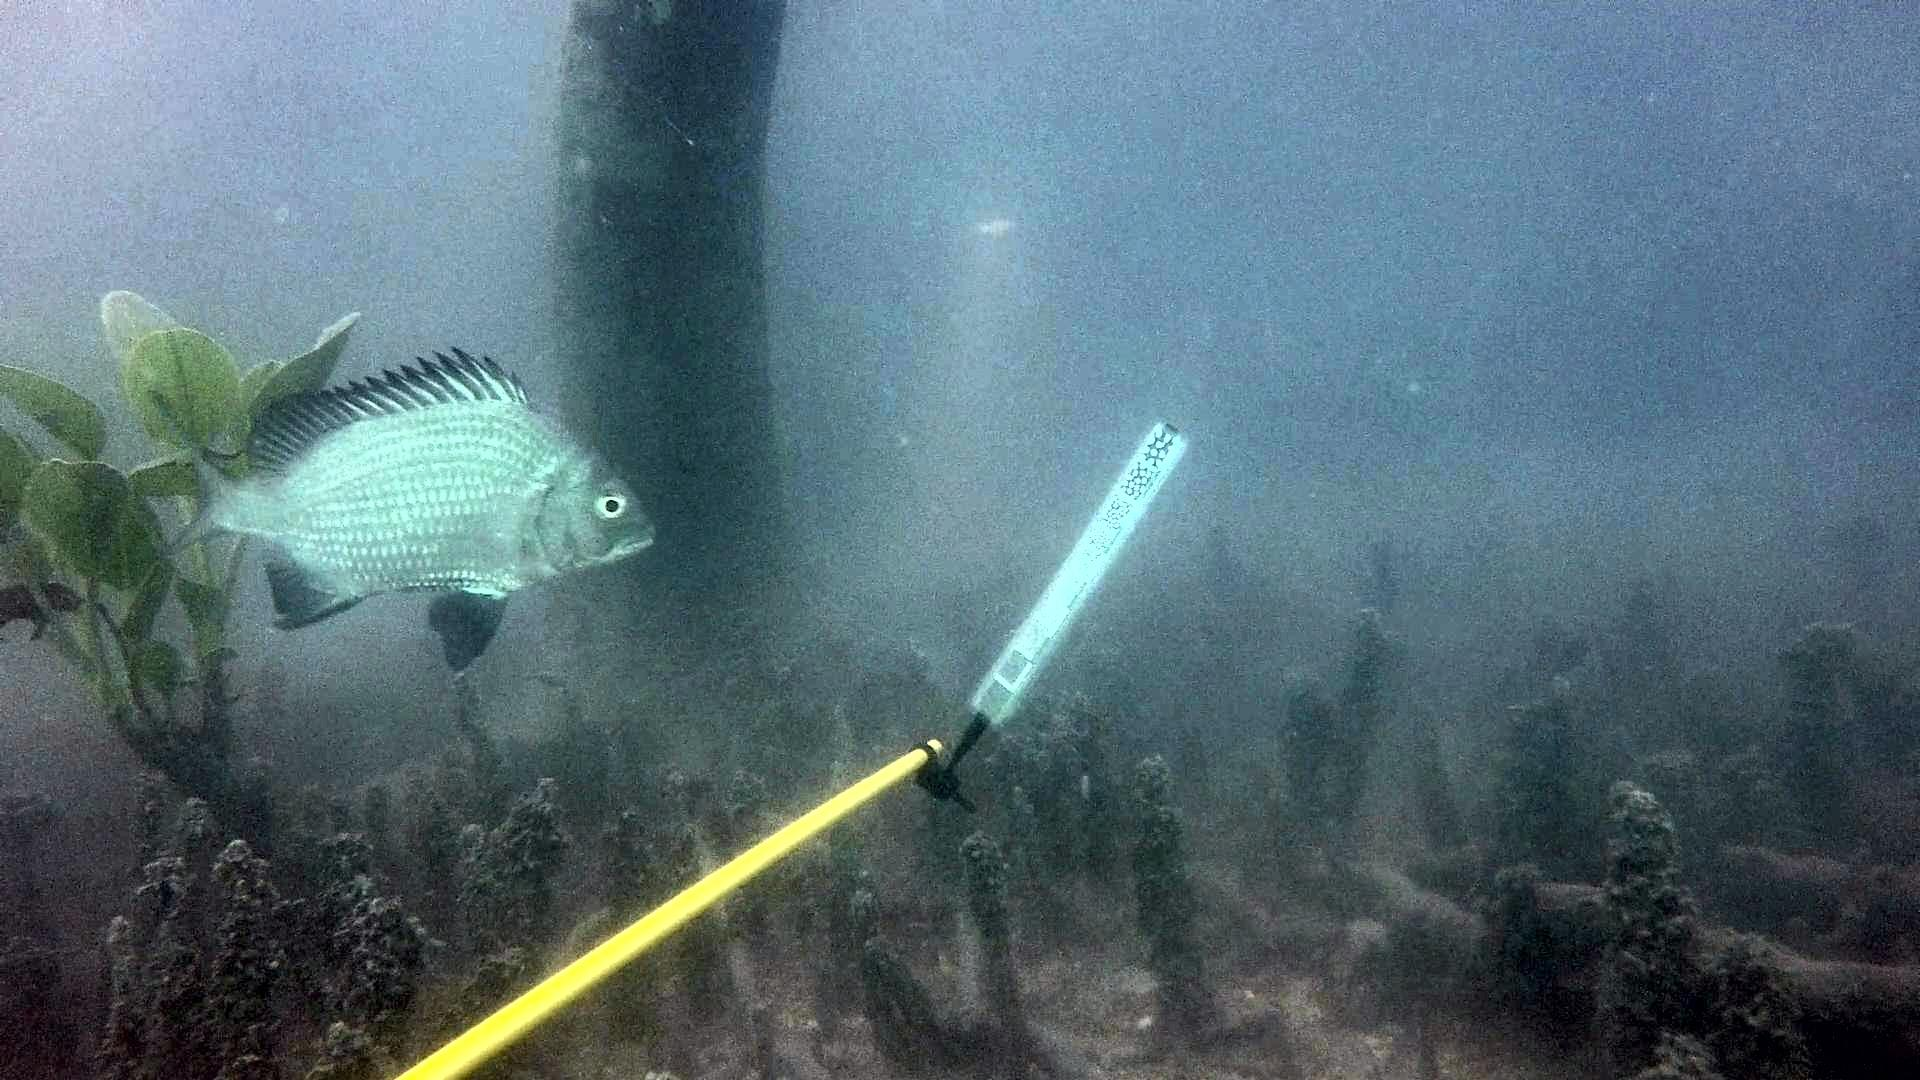acanthopagrus palmaris: (142, 342, 661, 682)
